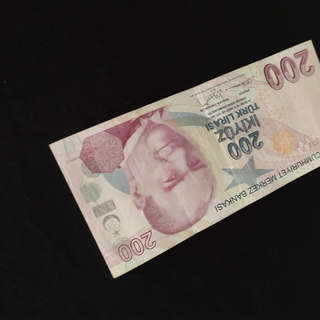200TLFront: (49, 39, 320, 278)
